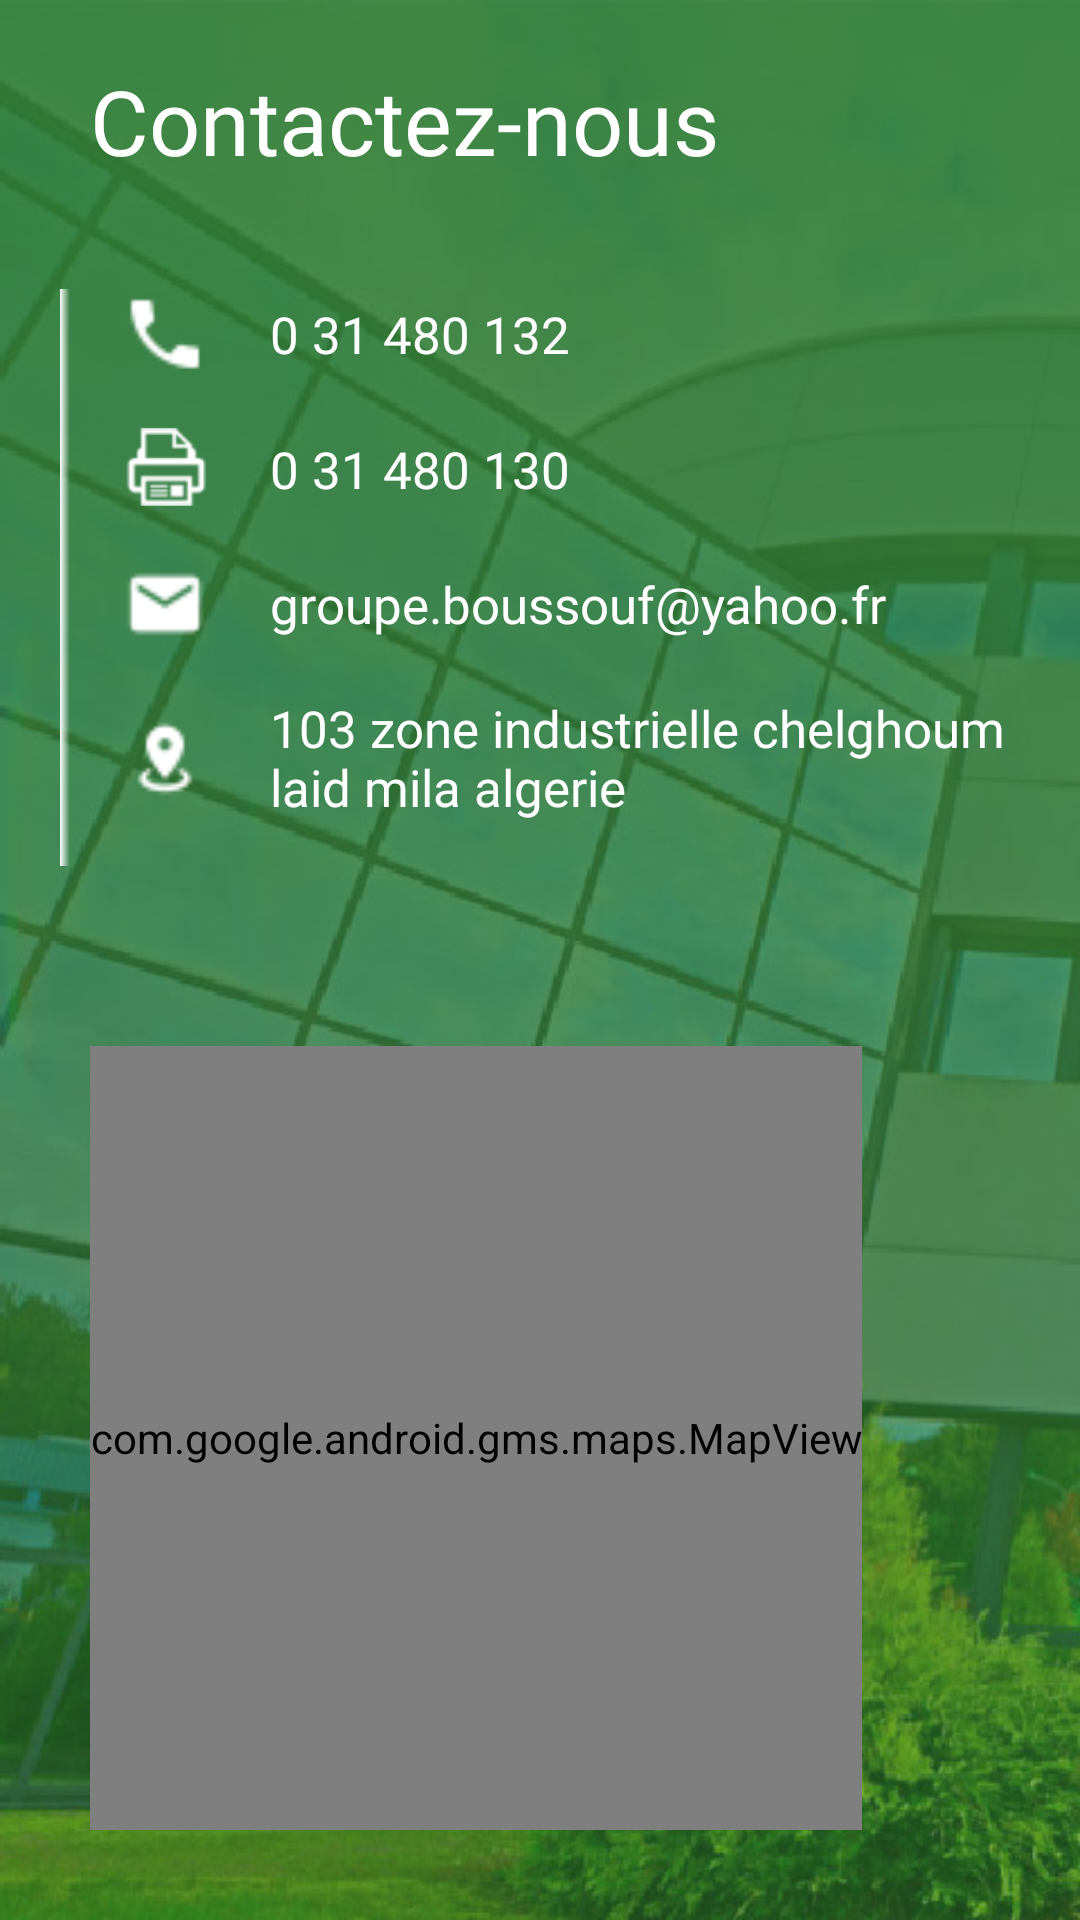

Icons on this 1080w x 1920h Android screen, each with its box as bbox=(x1, y1, x2, y2):
contact gps: bbox=(120, 712, 210, 799)
contact mail: bbox=(128, 573, 202, 635)
fax: bbox=(120, 428, 206, 511)
phone: bbox=(130, 299, 200, 369)
